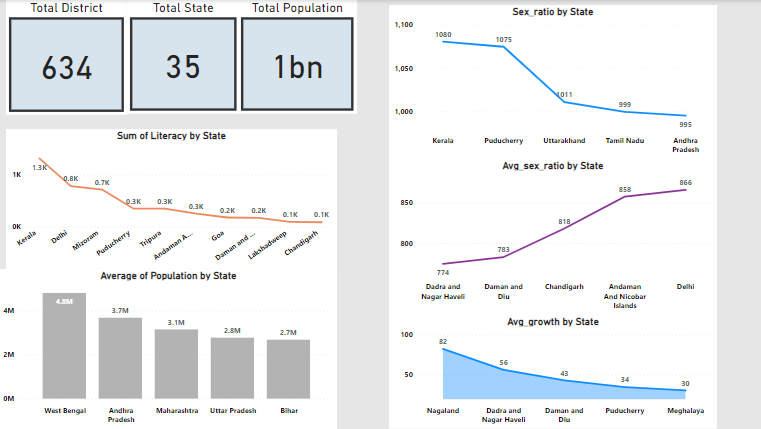

The dashboard page shown, as its layout file describes it:
{"tool":"powerbi","page":{"name":"Page 1","canvas":[1280,720],"ordinal":0},"visuals":[{"type":"cardVisual","title":"Total District","fields":{"Data":["Count(Data1.District)"]},"box":[10.1,0,203.3,193.2],"z":0},{"type":"cardVisual","title":"Total State","fields":{"Data":["Count(Data1.State)"]},"box":[213.3,0,189.8,191.5],"z":1000},{"type":"cardVisual","title":"Total Population","fields":{"Data":["Sum(Sheet1 (2).Population)"]},"box":[399.8,0,199.9,191.5],"z":2000},{"type":"lineChart","title":"Sex_ratio by State","fields":{"Category":["Data1.State"],"Y":["Data1.Avg_sex_ratio"]},"box":[653.4,8.4,551,258.7],"z":3000},{"type":"areaChart","fields":{"Category":["Data1.State"],"Y":["Data1.Avg_growth"]},"box":[653.4,529.1,551,191.5],"z":4000},{"type":"lineChart","fields":{"Category":["Data1.State"],"Y":["Data1.Avg_sex_ratio"]},"box":[653.4,267.1,551,262],"z":5000},{"type":"columnChart","fields":{"Category":["a.State"],"Y":["Avg(a.Population)"]},"box":[0,451.9,566.1,268.8],"z":5001},{"type":"lineChart","fields":{"Category":["Data1.State"],"Y":["Sum(Data1.Literacy)"]},"box":[10.1,216.7,556,235.2],"z":5002}]}

Visuals, with their boxes in screenshot pixels (x1, y1, x2, y2), scaled from the page's 1280x720 canvas onto the 761x429 screenshot:
"Total District" cardVisual: (6, 0, 127, 115)
"Total State" cardVisual: (127, 0, 240, 114)
"Total Population" cardVisual: (238, 0, 357, 114)
"Sex_ratio by State" lineChart: (388, 5, 716, 159)
areaChart - Data1.State x Data1.Avg_growth: (388, 315, 716, 428)
lineChart - Data1.State x Data1.Avg_sex_ratio: (388, 159, 716, 315)
columnChart - a.State x Avg(a.Population): (0, 269, 337, 428)
lineChart - Data1.State x Sum(Data1.Literacy): (6, 129, 337, 269)
